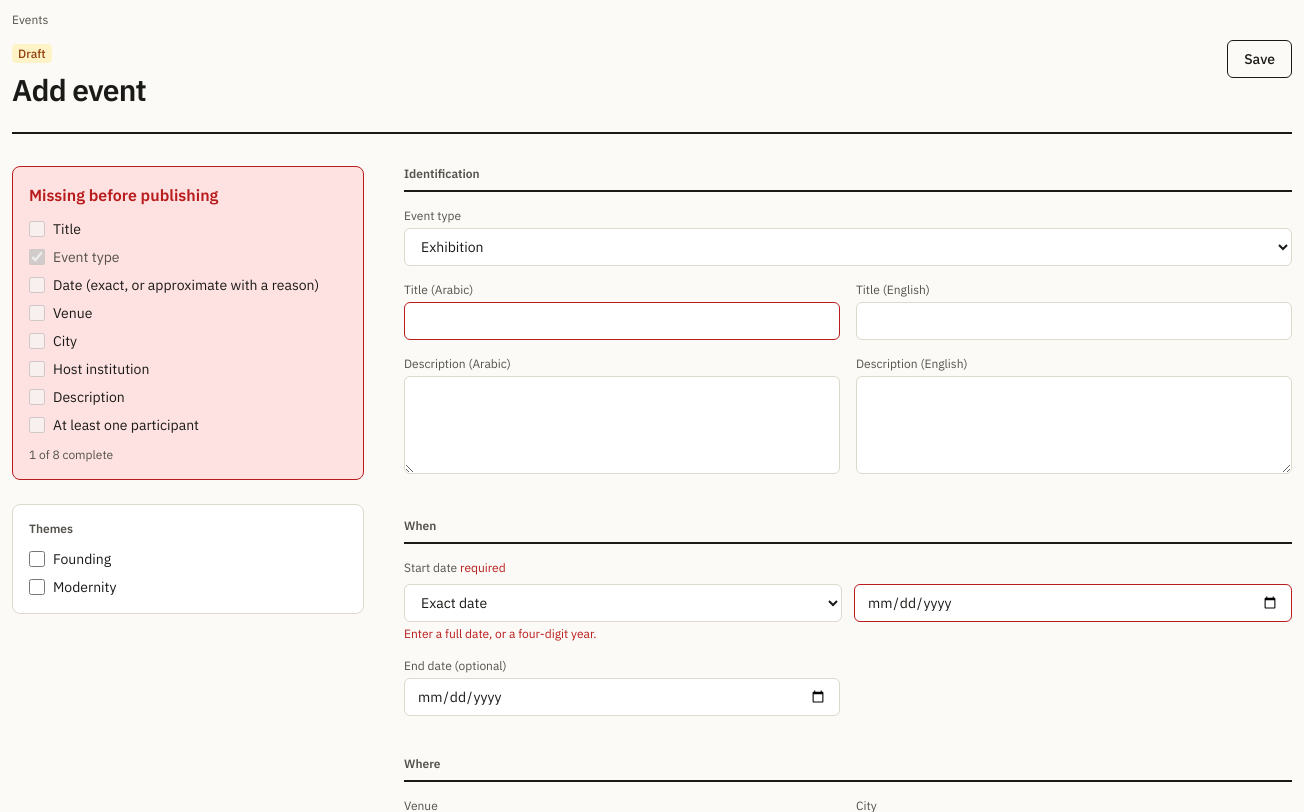
Scenario: EventEditPage (add) › stays on the page with a link when participants fail to save after the event was created
Type "معرض" into the field with test id "title-ar".
click(622, 321); type("معرض")  # box [404,302,840,340]
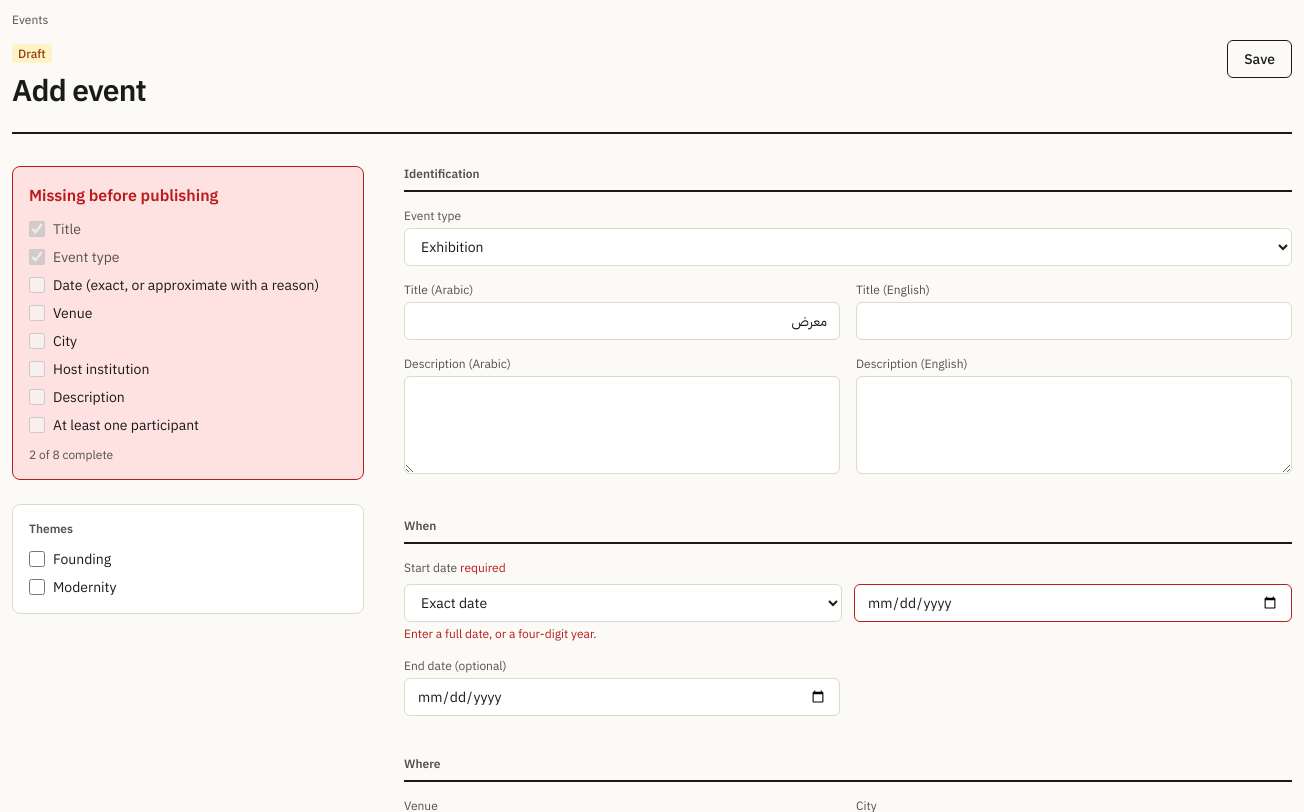
Click the button with test id "save".
click(1260, 59)  # box [1227,40,1292,78]
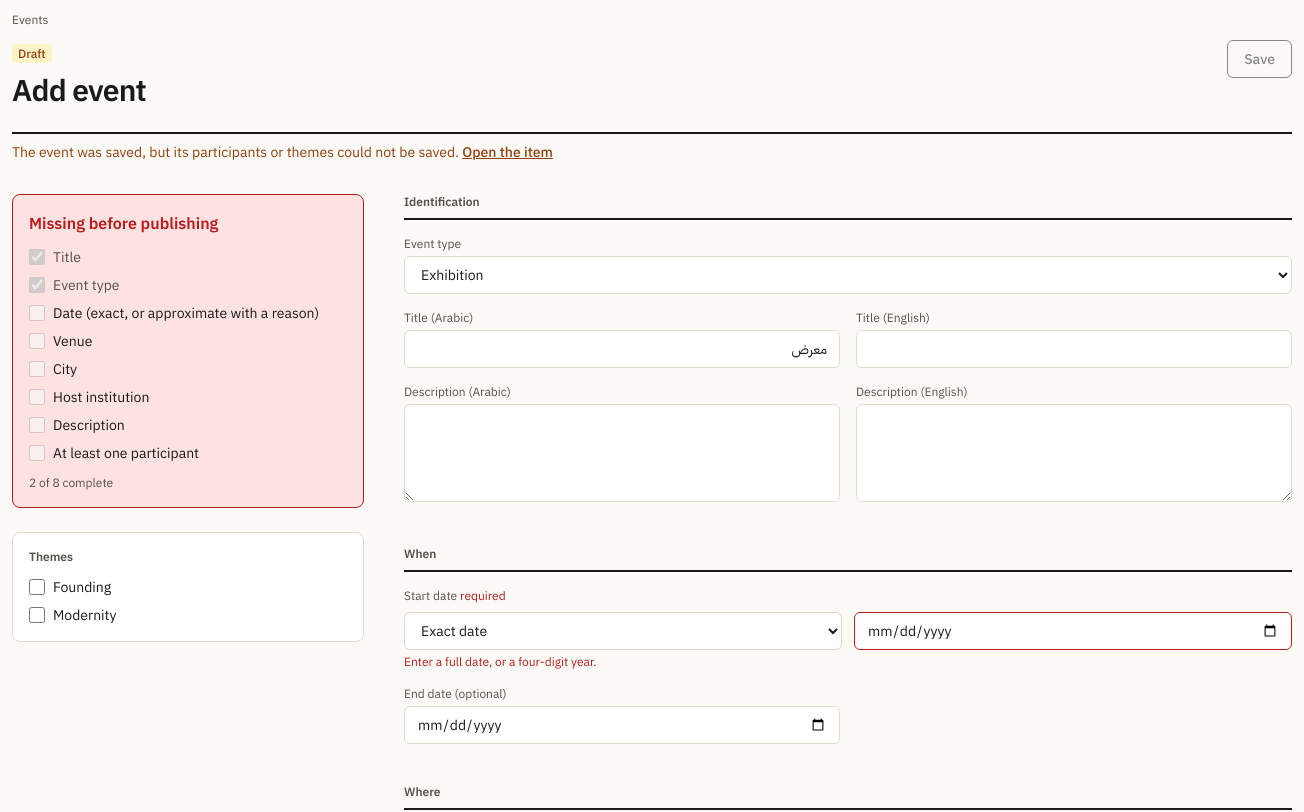
Result: the element with test id "partial-failure" is shown at [12,143,553,161]
